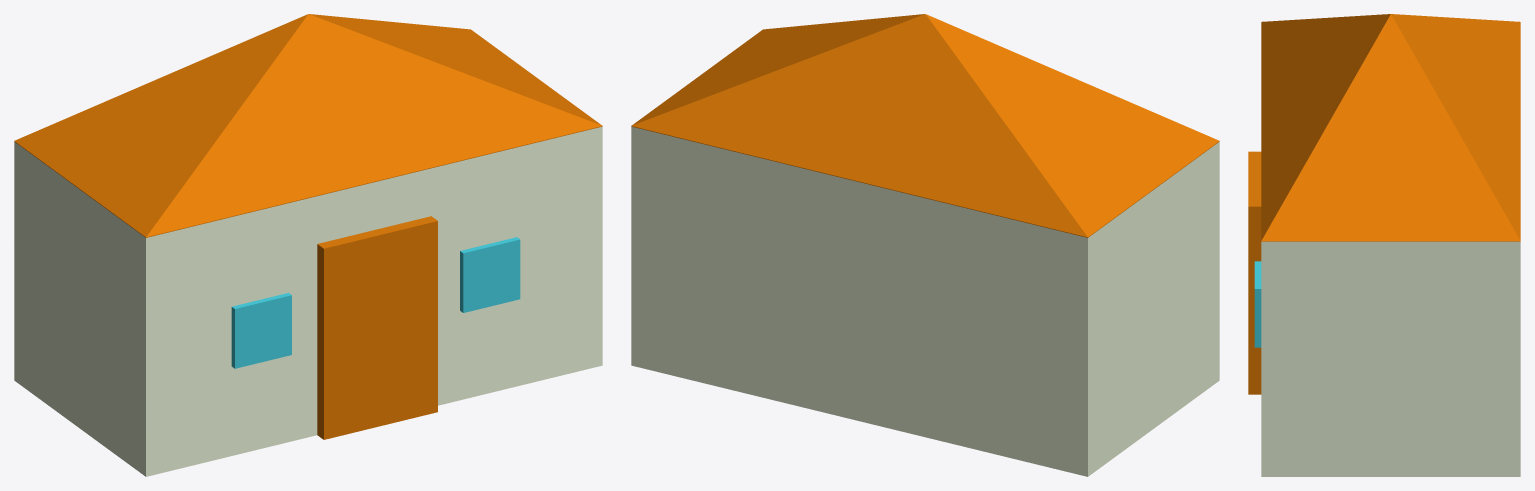
File: House_amvg.fbx
3 renders of one model, left to right at view 1: azimuth 30°, elevation 25°; view 2: azimuth 150°, elevation 25°; view 3: azimuth 270°, elevation 25°, orthographic.
Parts seen in each view (by area): view 1: BaseCasa; view 2: BaseCasa; view 3: BaseCasa.
Boxes of the visible parts, left/top/right/bottom form: BaseCasa: left=14, top=14, right=602, bottom=476; BaseCasa: left=631, top=14, right=1219, bottom=476; BaseCasa: left=1248, top=14, right=1520, bottom=476.
Size of the model in its own units: 400 by 300 by 210.
